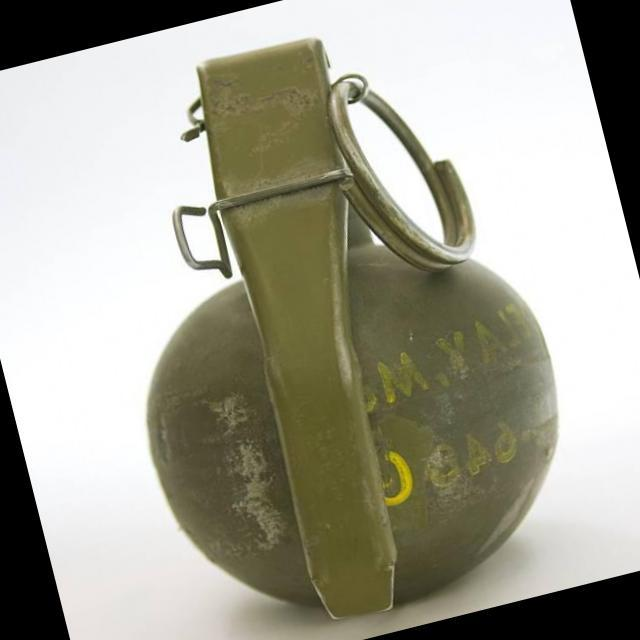grenade: (52, 0, 613, 640)
